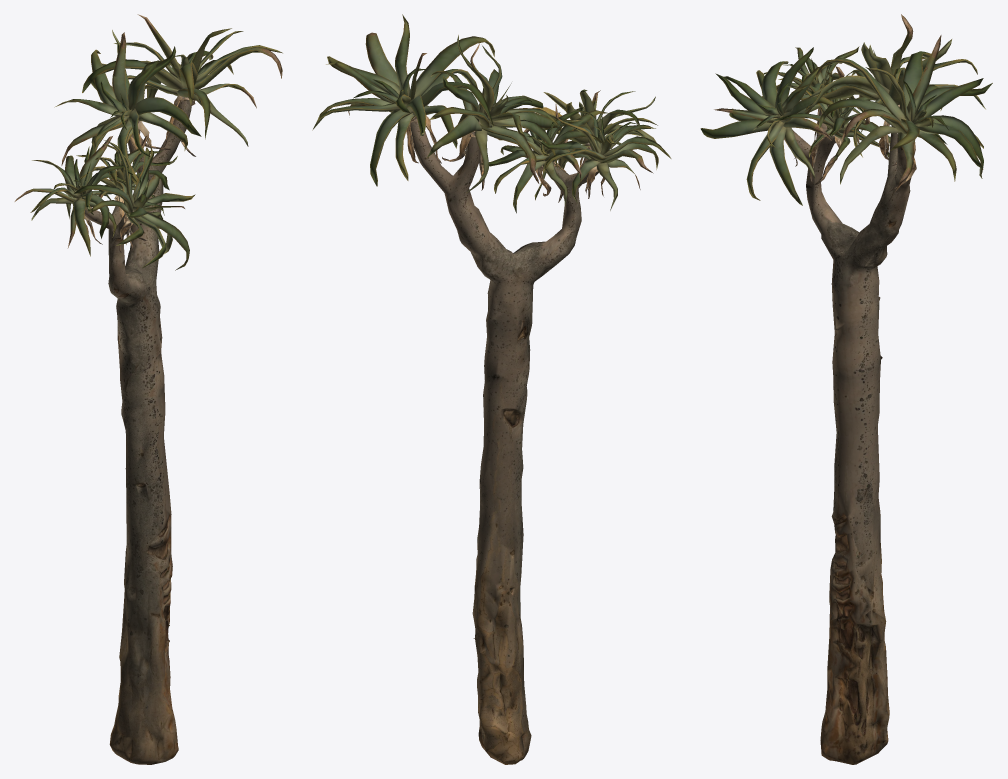
File: quiver_tree_01.glb
3 renders of one model, left to right at view 1: azimuth 30°, elevation 25°; view 2: azimuth 150°, elevation 25°; view 3: azimuth 270°, elevation 25°, orthographic. The views are drawn at different scales.
Parts seen in each view (by area): view 1: quiver_tree_01; view 2: quiver_tree_01; view 3: quiver_tree_01.
Part boxes in pixels (x1,y1,x2,y2): quiver_tree_01: (14, 14, 282, 764); quiver_tree_01: (312, 14, 671, 764); quiver_tree_01: (700, 14, 992, 764).
Bounding box in the file's own units: 1.18 × 2.72 × 0.9673.
2 materials, 2 textured.
